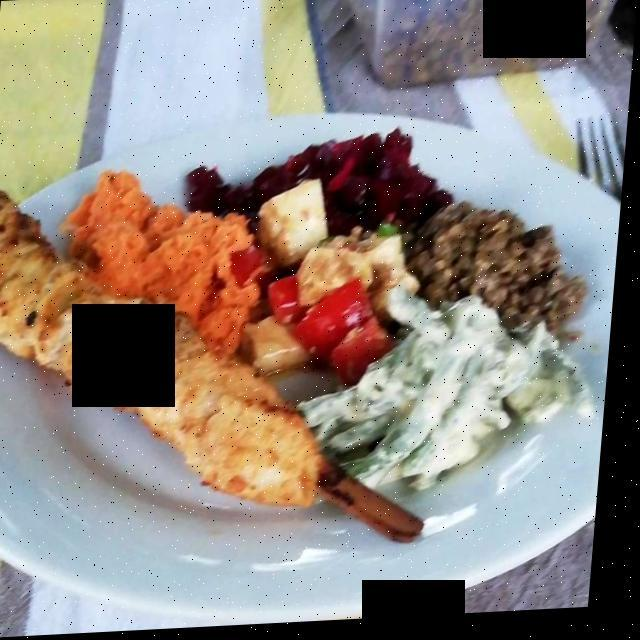beans: (303, 309, 573, 494)
beetroot: (184, 138, 441, 246)
carrot: (62, 174, 281, 343)
cheese: (255, 195, 415, 366)
chicken: (0, 185, 338, 517)
lentils: (409, 205, 578, 345)
tomato: (262, 276, 405, 384)
